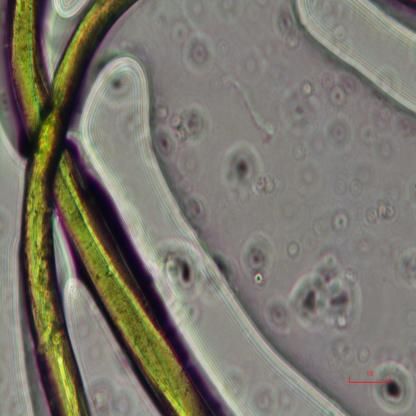Air bubble: (297, 0, 415, 121)
Background material: (264, 252, 367, 340), (209, 23, 275, 139), (216, 140, 284, 209), (351, 104, 411, 166), (154, 242, 208, 307), (150, 97, 207, 157), (371, 235, 416, 298), (368, 356, 416, 413), (237, 228, 277, 292), (290, 133, 329, 196), (170, 21, 214, 72), (282, 83, 322, 133), (270, 3, 302, 49), (323, 74, 357, 110), (324, 344, 372, 368), (299, 209, 331, 244), (322, 118, 352, 152), (362, 198, 398, 225), (282, 238, 302, 260), (335, 180, 362, 195), (332, 212, 350, 233)
Microfibre: (9, 0, 206, 416), (20, 0, 140, 414)
